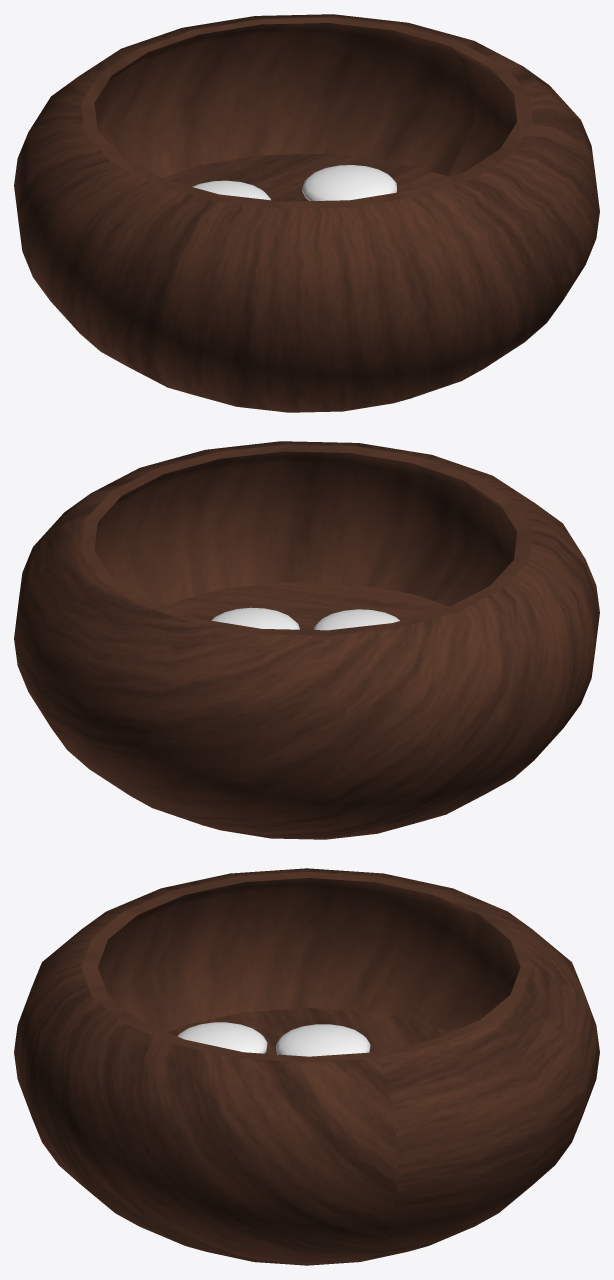
File: WhiteBowl.gltf
3 renders of one model, top to bottom at view 1: azimuth 30°, elevation 25°; view 2: azimuth 150°, elevation 25°; view 3: azimuth 270°, elevation 25°, orthographic.
Visible parts, largest first — view 1: BlackBowl, BlackStone, BlackStone.001; view 2: BlackBowl, BlackStone.002, BlackStone.005; view 3: BlackBowl, BlackStone.004, BlackStone.006.
Boxes of the visible parts, x1,y1,x2,y2 form: BlackBowl: [14, 14, 599, 412]; BlackStone: [302, 165, 396, 200]; BlackStone.001: [192, 180, 270, 200]; BlackBowl: [14, 441, 599, 839]; BlackStone.002: [211, 607, 299, 629]; BlackStone.005: [313, 609, 399, 630]; BlackBowl: [14, 868, 599, 1265]; BlackStone.004: [276, 1024, 370, 1056]; BlackStone.006: [177, 1022, 267, 1053].
Bounding box in the file's own units: 0.2669 × 0.1209 × 0.2669.
2 materials, 1 textured.
